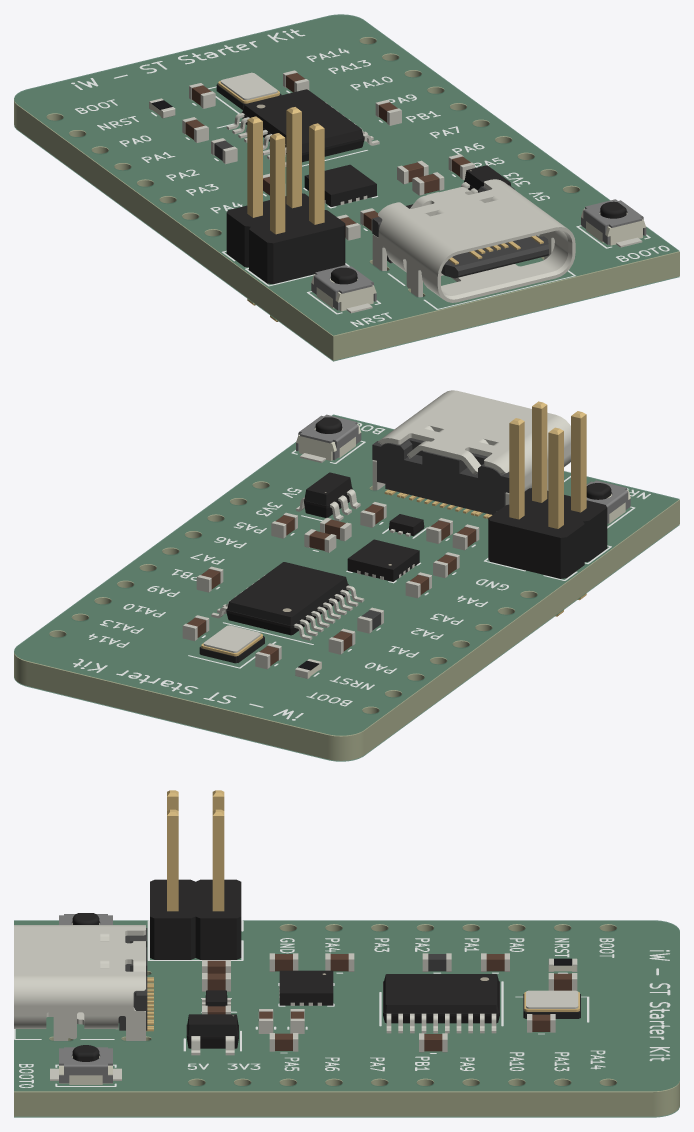
File: iw-starter-kit-3d.glb
The picture shows the model from 3 angles, top to bottom: view 1: azimuth 30°, elevation 25°; view 2: azimuth 150°, elevation 25°; view 3: azimuth 270°, elevation 25°; orthographic projection.
Visible parts, largest first — view 1: =>[0:1:1:28], =>[0:1:1:26], =>[0:1:1:11], =>[0:1:1:21], =>[0:1:1:19] (×2), =>[0:1:1:17], =>[0:1:1:24], =>[0:1:1:5], =>[0:1:1:7], =>[0:1:1:27], =>[0:1:1:9], =>[0:1:1:3]; view 2: =>[0:1:1:28], =>[0:1:1:26], =>[0:1:1:11], =>[0:1:1:21], =>[0:1:1:17], =>[0:1:1:24], =>[0:1:1:19] (×2), =>[0:1:1:5], =>[0:1:1:9], =>[0:1:1:7], =>[0:1:1:27], =>[0:1:1:23] (+1 smaller); view 3: =>[0:1:1:28], =>[0:1:1:26], =>[0:1:1:11], =>[0:1:1:21], =>[0:1:1:17], =>[0:1:1:24], =>[0:1:1:3] (×8), =>[0:1:1:19] (×2), =>[0:1:1:5], =>[0:1:1:9], =>[0:1:1:7], =>[0:1:1:27] (+1 smaller).
Part boxes in pixels (x1,y1,x2,y2): =>[0:1:1:28]: (14,16,679,360); =>[0:1:1:26]: (14,14,679,335); =>[0:1:1:11]: (372,179,575,302); =>[0:1:1:21]: (226,107,345,321); =>[0:1:1:19] (×2): (311,199,646,313); =>[0:1:1:17]: (226,89,379,166); =>[0:1:1:24]: (71,29,669,326); =>[0:1:1:5]: (304,164,376,206); =>[0:1:1:7]: (216,72,281,110); =>[0:1:1:27]: (14,125,679,361); =>[0:1:1:9]: (461,165,510,193); =>[0:1:1:3]: (412,172,444,195); =>[0:1:1:28]: (14,416,679,760); =>[0:1:1:26]: (14,414,679,735); =>[0:1:1:11]: (372,390,570,518); =>[0:1:1:21]: (488,401,607,616); =>[0:1:1:17]: (211,562,364,640); =>[0:1:1:24]: (73,422,650,720); =>[0:1:1:19] (×2): (296,414,630,523); =>[0:1:1:5]: (347,539,419,581); =>[0:1:1:9]: (296,472,360,521); =>[0:1:1:7]: (199,625,264,663); =>[0:1:1:27]: (14,525,679,761); =>[0:1:1:23]: (389,514,424,536); =>[0:1:1:28]: (14,921,679,1116); =>[0:1:1:26]: (14,920,679,1091); =>[0:1:1:11]: (14,925,153,1040); =>[0:1:1:21]: (150,790,241,959); =>[0:1:1:17]: (383,974,499,1033); =>[0:1:1:24]: (14,920,670,1087); =>[0:1:1:3] (×8): (202,953,577,1052); =>[0:1:1:19] (×2): (50,913,121,1084); =>[0:1:1:5]: (279,970,333,1005); =>[0:1:1:9]: (186,1014,238,1055); =>[0:1:1:7]: (523,990,580,1018); =>[0:1:1:27]: (14,1106,679,1117).
Size of the model in its own units: 0.0225 by 0.0115 by 0.037.
